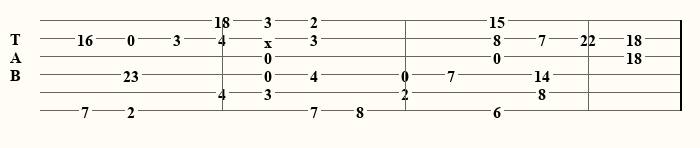0: (127, 31, 139, 46), (264, 67, 276, 82), (264, 49, 276, 64), (401, 67, 413, 82), (493, 49, 505, 64)
14: (534, 67, 554, 82)
15: (489, 13, 509, 28)
16: (77, 31, 97, 46)
18: (214, 13, 234, 28), (626, 49, 646, 64), (626, 31, 646, 46)
2: (127, 103, 139, 118), (310, 13, 322, 28), (401, 85, 413, 100)
22: (580, 31, 600, 46)
23: (123, 67, 143, 82)
3: (173, 31, 185, 46), (264, 13, 276, 28), (264, 85, 276, 100), (310, 31, 322, 46)
4: (218, 31, 230, 46), (218, 85, 230, 100), (310, 67, 322, 82)
6: (493, 103, 505, 118)
7: (81, 103, 93, 118), (310, 103, 322, 118), (447, 67, 459, 82), (538, 31, 550, 46)
8: (356, 103, 368, 118), (493, 31, 505, 46), (538, 85, 550, 100)
x: (264, 33, 276, 44)
